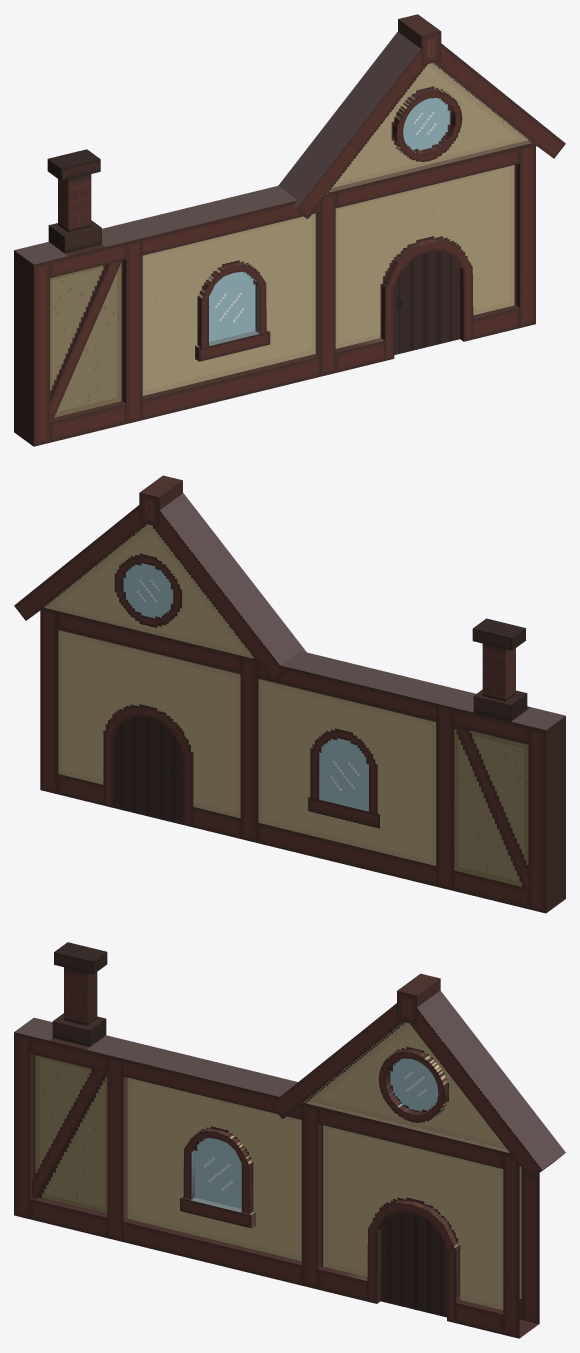
File: House_02.fbx
3 renders of one model, top to bottom at view 1: azimuth 30°, elevation 25°; view 2: azimuth 150°, elevation 25°; view 3: azimuth 330°, elevation 25°, orthographic.
Visible parts, largest first — view 1: L0_builing-2_1500px; view 2: L0_builing-2_1500px; view 3: L0_builing-2_1500px.
Boxes of the visible parts, x1,y1,x2,y2 form: L0_builing-2_1500px: (14,14,565,446); L0_builing-2_1500px: (14,475,565,913); L0_builing-2_1500px: (14,942,565,1338).
Bounding box in the file's own units: 591 × 342 × 45.4.
